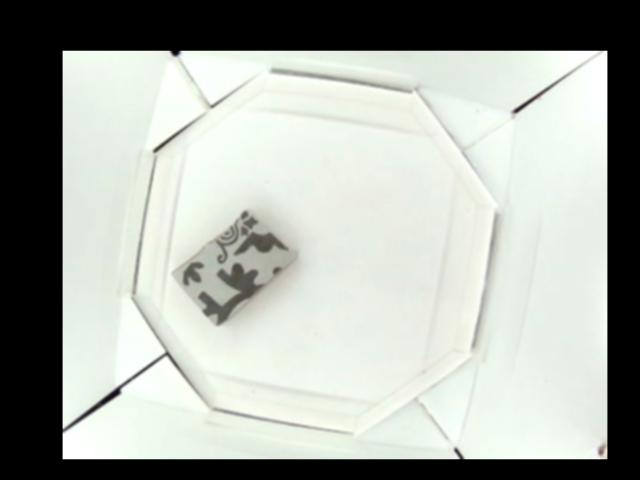China: (168, 208, 298, 322)
